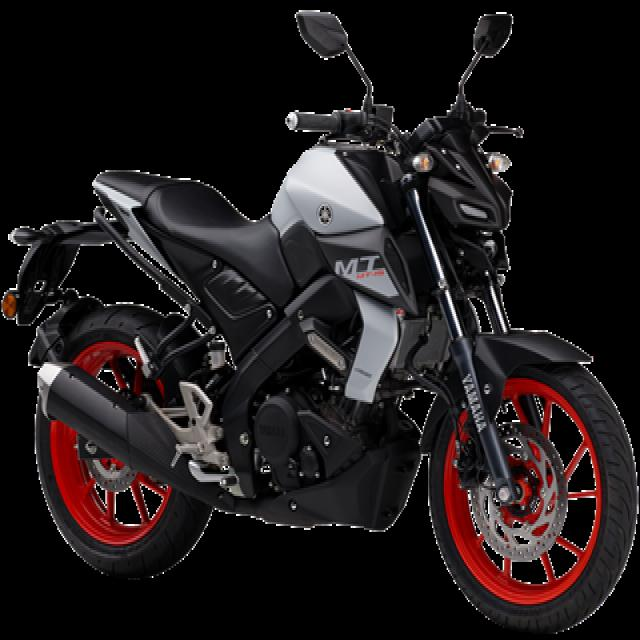Bike: (3, 11, 637, 634)
